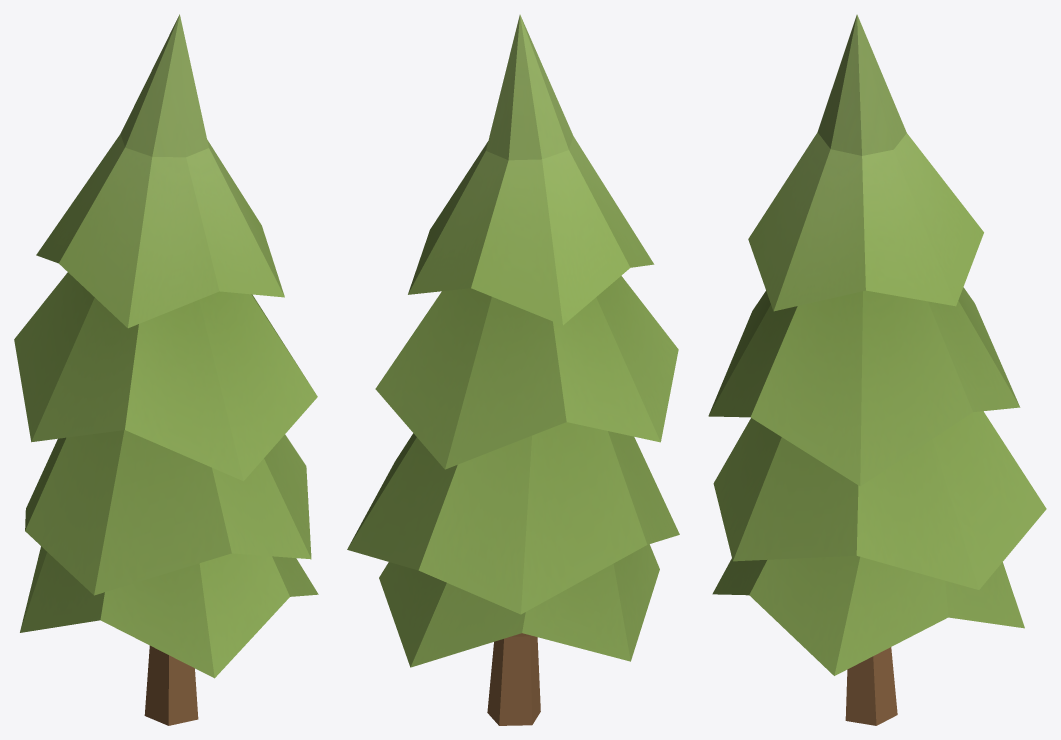
The model's file is Pine_Tree_m_06.fbx.
The picture shows the model from 3 angles, left to right: view 1: azimuth 30°, elevation 25°; view 2: azimuth 150°, elevation 25°; view 3: azimuth 270°, elevation 25°; orthographic projection.
Parts seen in each view (by area): view 1: Pine_Tree_m_06; view 2: Pine_Tree_m_06; view 3: Pine_Tree_m_06.
Boxes of the visible parts, bbox=[...] form: Pine_Tree_m_06: bbox=[14, 14, 318, 725]; Pine_Tree_m_06: bbox=[347, 14, 679, 725]; Pine_Tree_m_06: bbox=[708, 14, 1046, 725].
Bounding box in the file's own units: 375 × 925 × 405.
